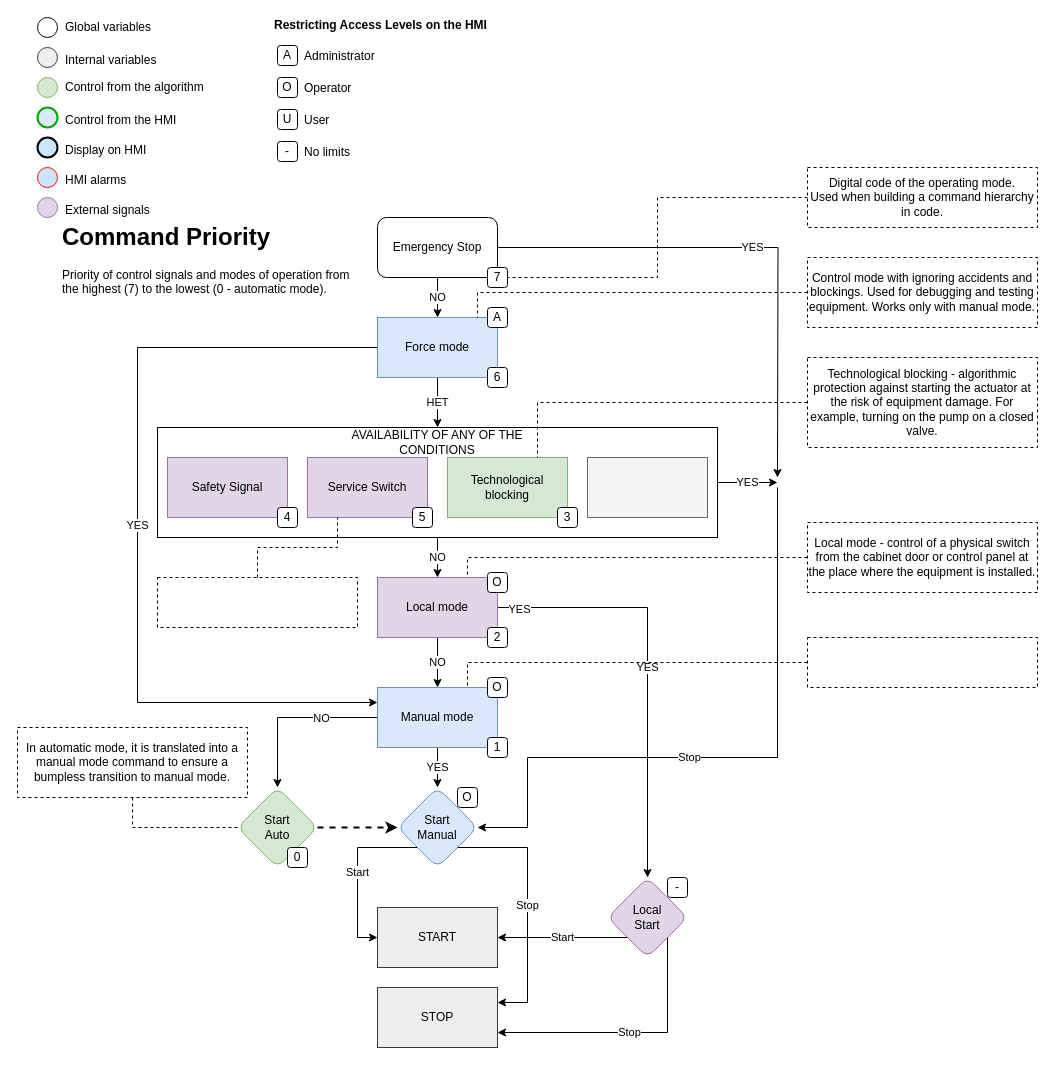
This 1055x1065 diagram has some shape labels left out. Each missing label, with the centre of its shape:
"Malfunction equipment" goes at point (647, 487).
"Manual mode - control by operator command from HMI." goes at point (922, 662).
"Service switch at the place of installation of the equipment." goes at point (257, 602).
